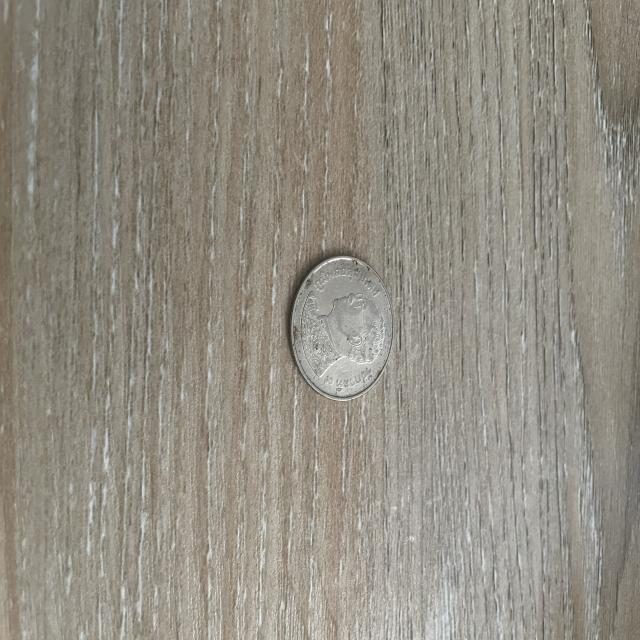1 Bath: (286, 248, 402, 406)
